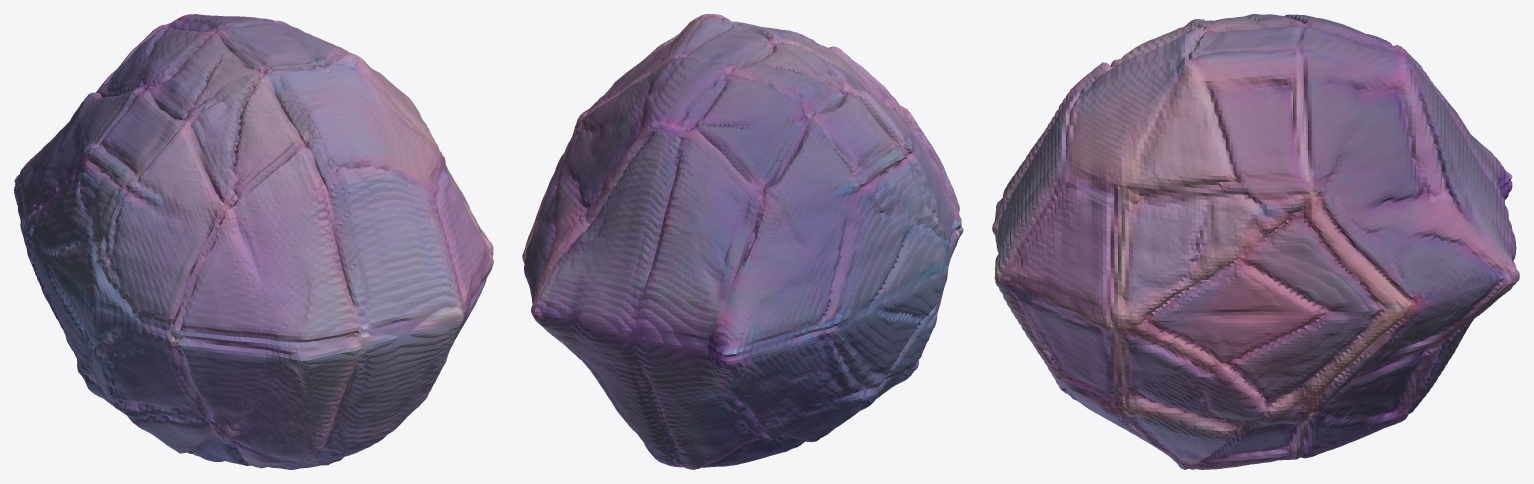
The picture shows the model from 3 angles, left to right: view 1: azimuth 30°, elevation 25°; view 2: azimuth 150°, elevation 25°; view 3: azimuth 270°, elevation 25°; orthographic projection. The views are drawn at different scales.
Parts seen in each view (by area): view 1: world; view 2: world; view 3: world.
Boxes of the visible parts, bbox=[...] form: world: bbox=[14, 14, 493, 469]; world: bbox=[522, 14, 963, 469]; world: bbox=[992, 14, 1519, 469].
Bounding box in the file's own units: 0.7912 × 0.8499 × 0.967.
